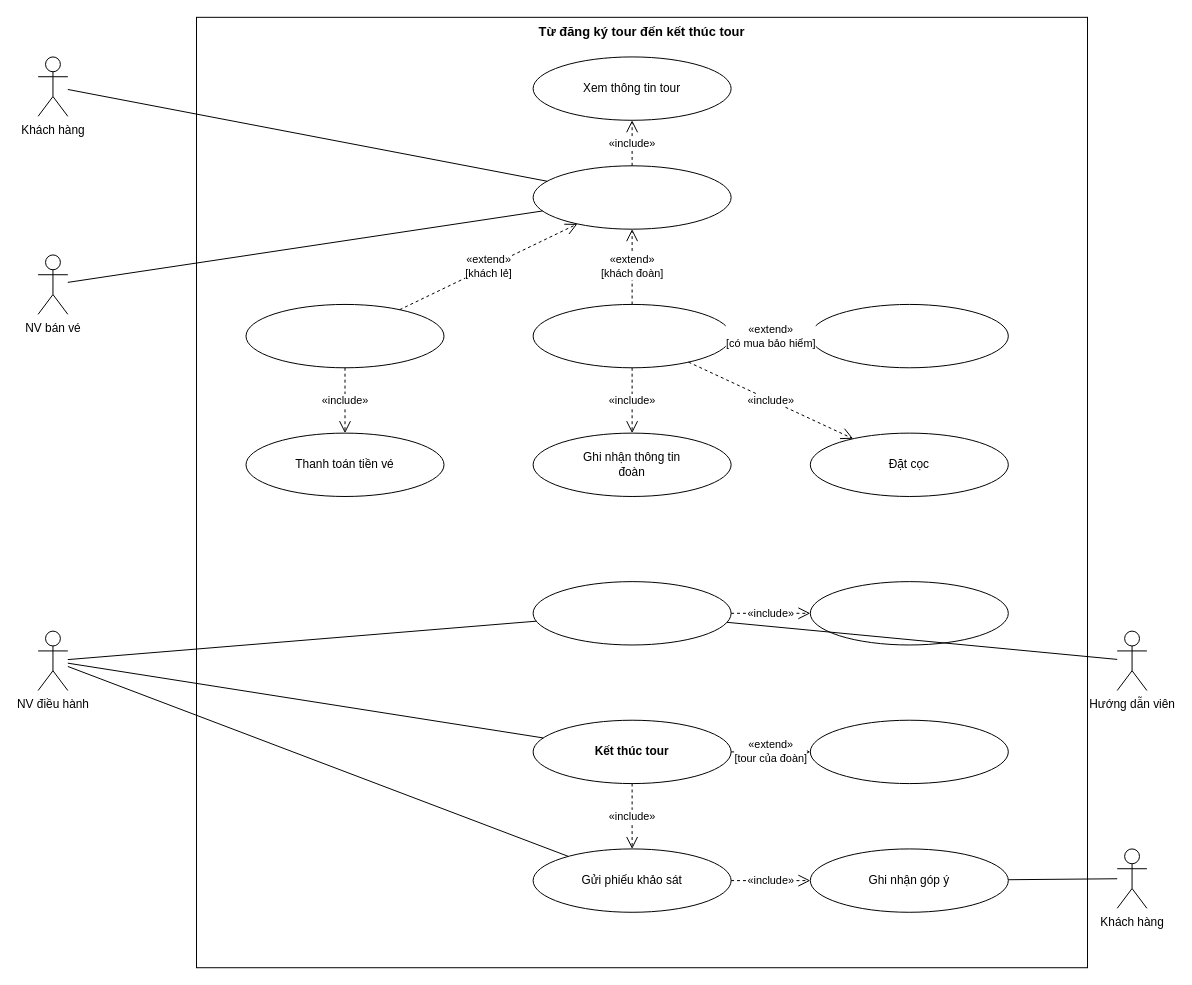
The diagram is 1192 pixels wide and 985 high, and some of its shapes have lost their labels. Here are the shapes that lost their labels. From the top down, the centre of each, then its label:
the point at 631,197: Đăng ký tour
the point at 344,335: Đăng ký theo chuyến (dưới 12 người)
the point at 631,335: Đăng ký theo đoàn (trên 12 người)
the point at 908,335: Nhập danh sách người đi cùng
the point at 631,613: Phân công hướng dẫn viên
the point at 908,613: Kiểm tra trùng lịch
the point at 908,751: Quyết toán kinh phí của đoàn
